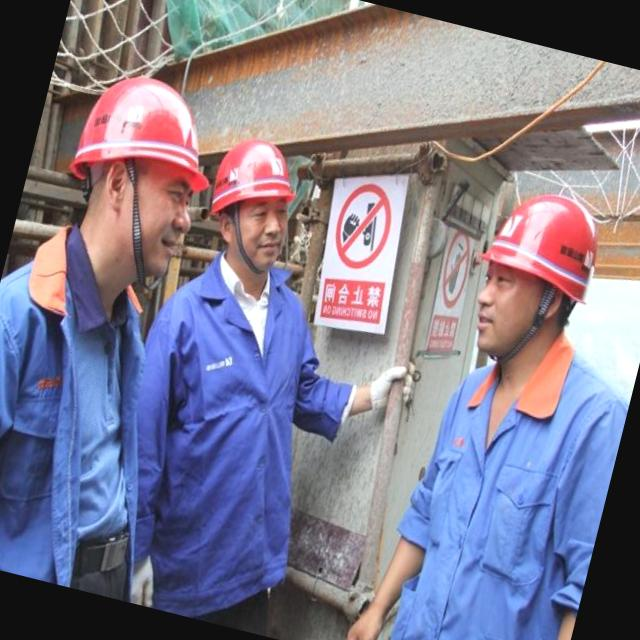helmet: (71, 55, 236, 195), (478, 179, 620, 301), (200, 124, 310, 240)
no-goggles: (462, 255, 566, 318), (212, 184, 304, 252)
no-vest: (100, 242, 337, 632), (393, 347, 633, 640), (0, 254, 170, 594)
